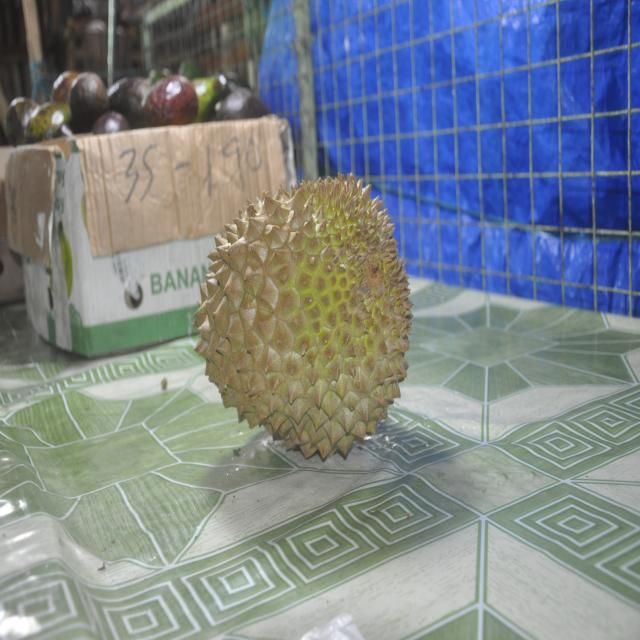mature: (194, 174, 413, 459)
